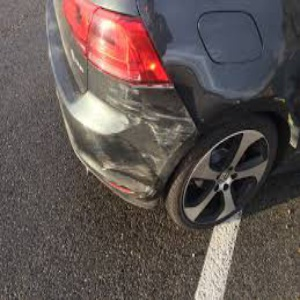bumper_scratch: (103, 81, 185, 204)
